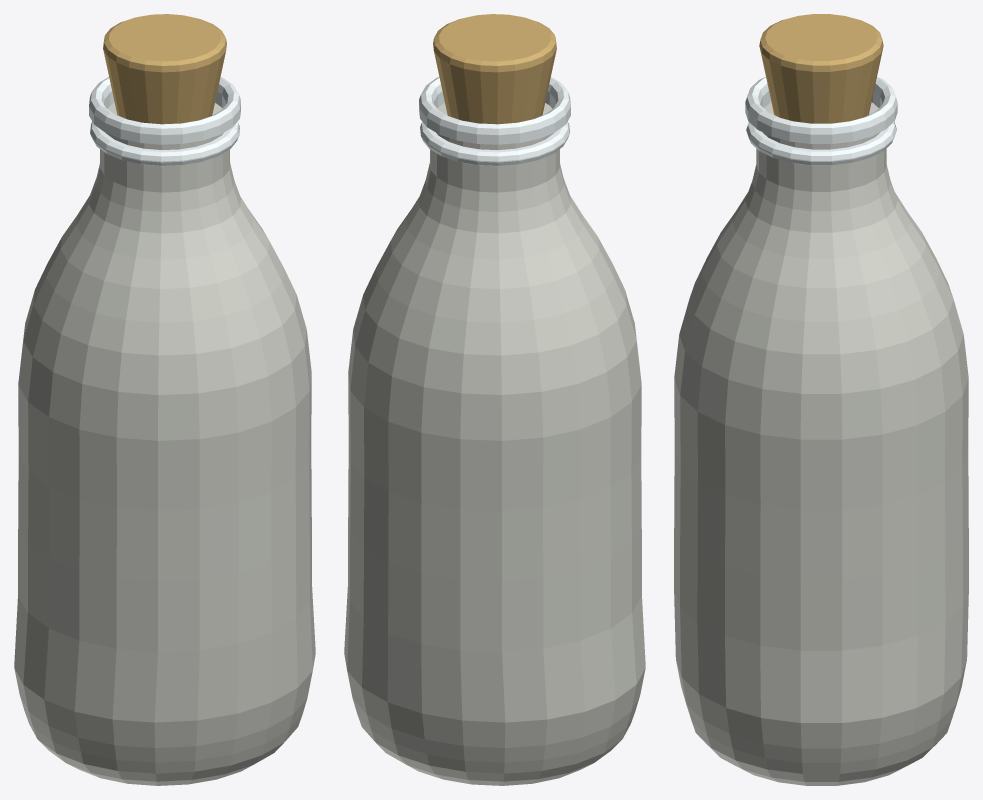
File: MilkBottle.fbx
3 views of the same model, side by side, from view 1: azimuth 30°, elevation 25°; view 2: azimuth 150°, elevation 25°; view 3: azimuth 270°, elevation 25° (orthographic).
Visible parts, largest first — view 1: Cylinder.001; view 2: Cylinder.001; view 3: Cylinder.001.
Boxes of the visible parts, x1=… form: Cylinder.001: x1=14, y1=14, x2=315, y2=785; Cylinder.001: x1=344, y1=14, x2=645, y2=785; Cylinder.001: x1=674, y1=14, x2=968, y2=785.
Bounding box in the file's own units: 198 × 518 × 193.
